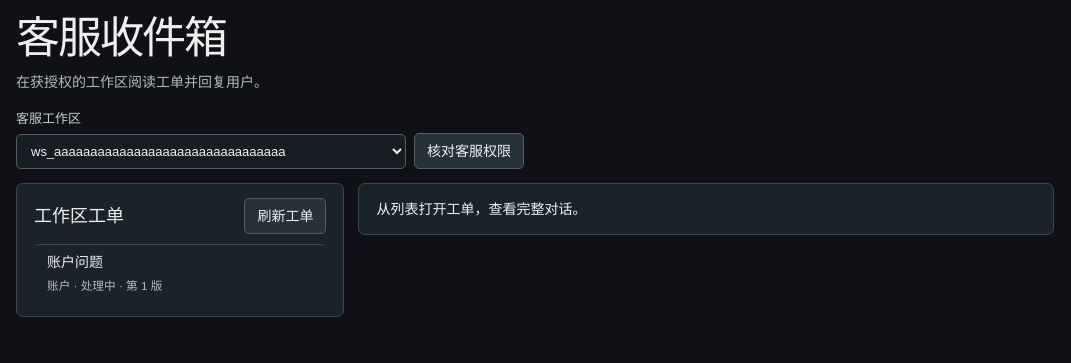
Test: drops an old authorized list when a newer detail read proves that access has ended
This screenshot has width=1071, height=363.
What coordinates should you click on to do the following:
click the button "账户问题 账户 · 处理中 · 第 1 版"
I would click on:
 (75, 262)
Its box is top-left (34, 244), bottom-right (326, 302).
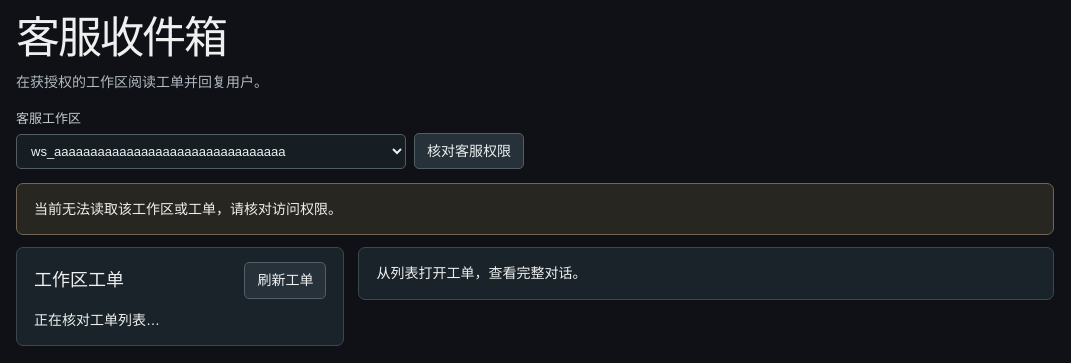
Check: the text "账户问题" is gone
